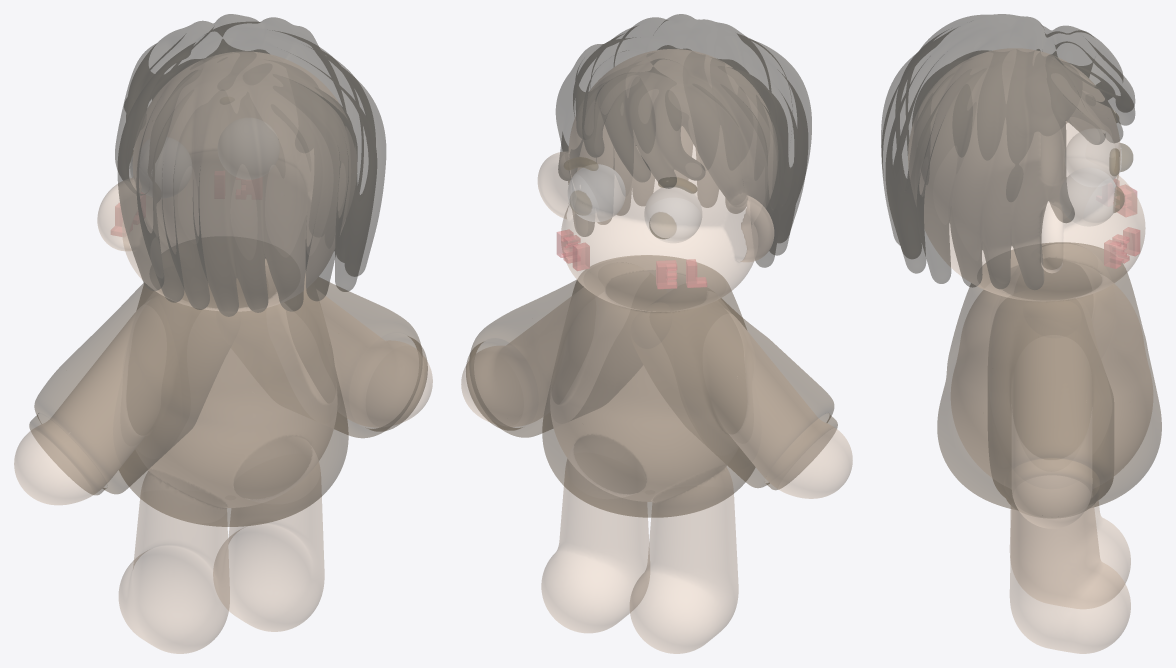
Rendered from sako.glb.
3 renders of one model, left to right at view 1: azimuth 30°, elevation 25°; view 2: azimuth 150°, elevation 25°; view 3: azimuth 270°, elevation 25°, orthographic. The views are drawn at different scales.
Parts seen in each view (by area): view 1: body, hair, Area (1), sleeve R, sleeve L; view 2: body, hair, Area (1), sleeve R, sleeve L, eyes, Area (2); view 3: body, hair, Area (1), sleeve L, eyes, Area (2), sleeve R.
Part boxes in pixels (x1,y1,x2,y2): body: (14,52,432,653); hair: (115,14,385,316); Area (1): (119,259,348,526); sleeve R: (29,283,231,494); sleeve L: (231,276,427,437); body: (461,49,852,653); hair: (556,14,811,267); Area (1): (542,255,754,517); sleeve R: (631,283,837,489); sleeve L: (466,263,666,437); eyes: (564,157,701,242); Area (2): (557,229,706,288); body: (908,48,1152,653); hair: (881,14,1135,289); Area (1): (937,242,1161,509); sleeve L: (988,289,1114,518); eyes: (1066,109,1132,226); Area (2): (1104,179,1139,268); sleeve R: (1042,242,1082,260).
Size of the model in its own units: 606 by 890 by 382.
Materials: 7 (7 with a texture image).
